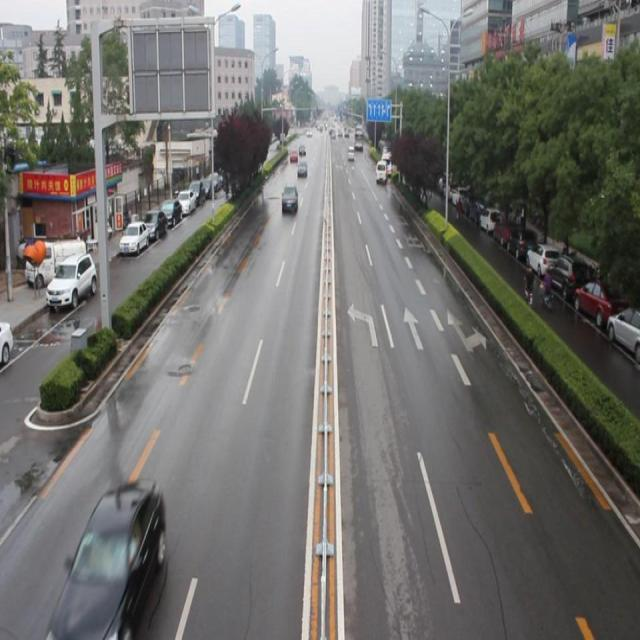car: (48, 477, 167, 640), (280, 182, 298, 211), (296, 158, 307, 178)
truck: (374, 160, 386, 185)
